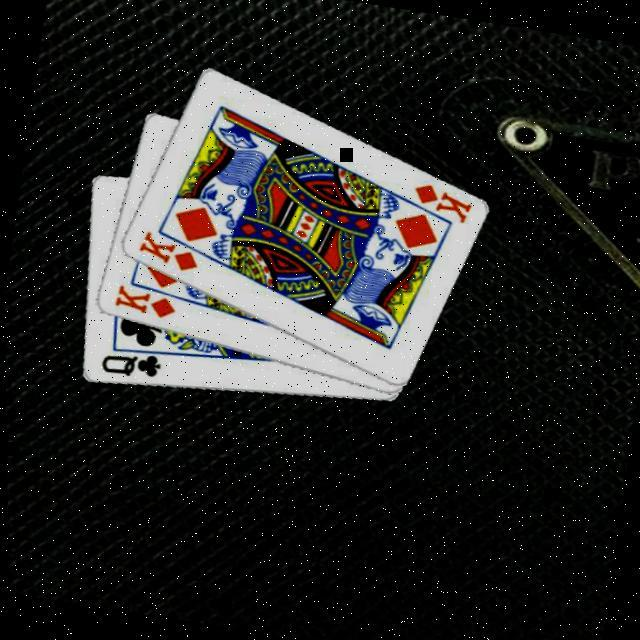KD: (131, 226, 203, 276), (406, 177, 476, 227), (108, 280, 178, 322)
QC: (94, 344, 162, 384)
